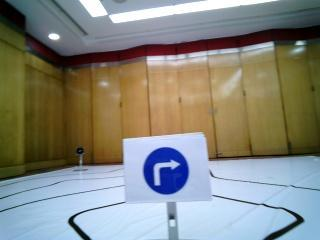right: (122, 140, 208, 198)
